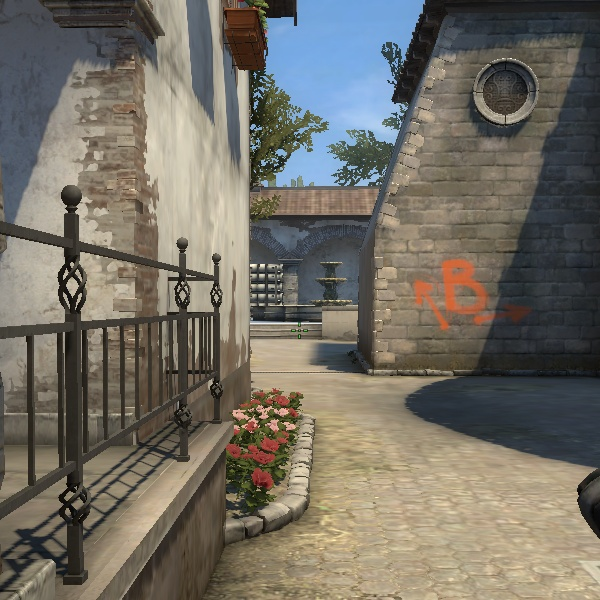ct_body: (216, 382, 300, 537)
